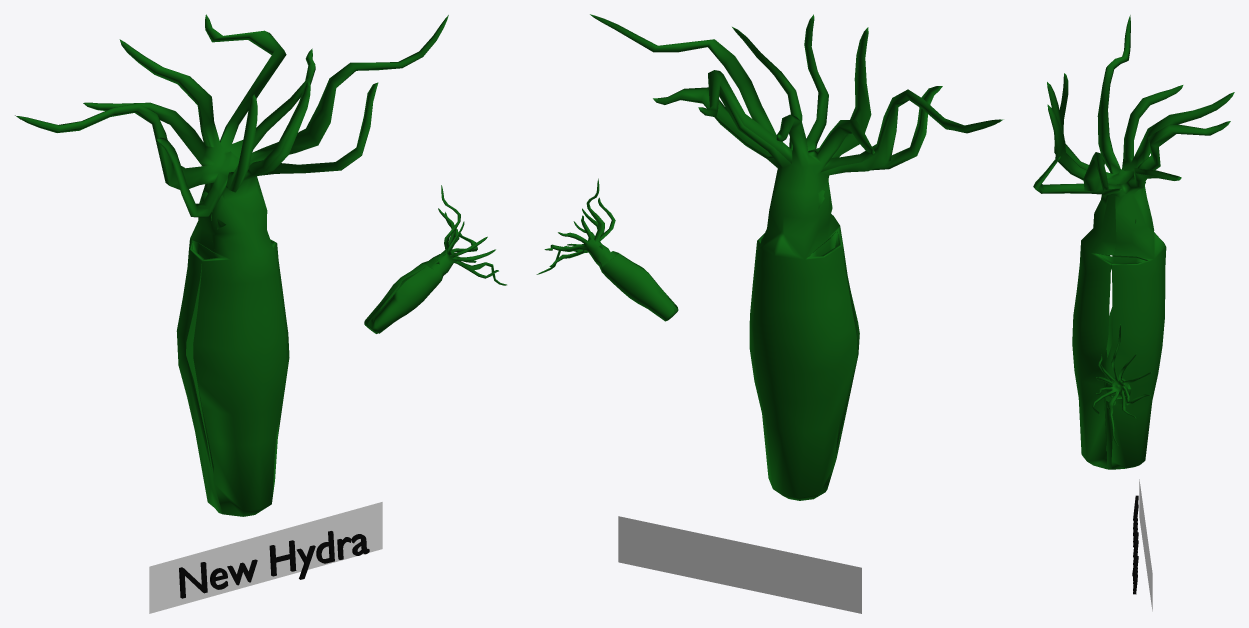
The model's file is newhydra.gltf.
The picture shows the model from 3 angles, left to right: view 1: azimuth 30°, elevation 25°; view 2: azimuth 150°, elevation 25°; view 3: azimuth 270°, elevation 25°; orthographic projection. The views are drawn at different scales.
Parts seen in each view (by area): view 1: Object_7.006, Plane.009, Object_7.007, Text.009; view 2: Object_7.006, Plane.009, Object_7.007; view 3: Object_7.006, Object_7.007, Plane.009, Text.009.
Part boxes in pixels (bbox=[...]): Object_7.006: bbox=[15, 14, 448, 516]; Plane.009: bbox=[149, 502, 382, 613]; Object_7.007: bbox=[364, 185, 506, 333]; Text.009: bbox=[179, 531, 369, 598]; Object_7.006: bbox=[590, 14, 1003, 500]; Plane.009: bbox=[618, 516, 861, 613]; Object_7.007: bbox=[536, 178, 678, 321]; Object_7.006: bbox=[1033, 15, 1234, 469]; Object_7.007: bbox=[1092, 324, 1151, 445]; Plane.009: bbox=[1139, 479, 1152, 611]; Text.009: bbox=[1132, 495, 1138, 594].
Size of the model in its own units: 16.28 by 17.53 by 7.05.
